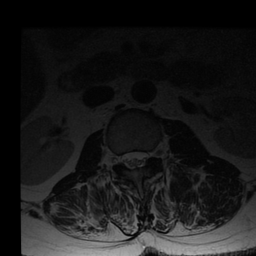CCS_normal: (131, 142, 139, 174)
LFS_normal: (147, 141, 157, 164)
LLS_normal: (139, 142, 147, 172)
RFS_normal: (114, 146, 123, 170)
RLS_normal: (122, 144, 131, 173)
